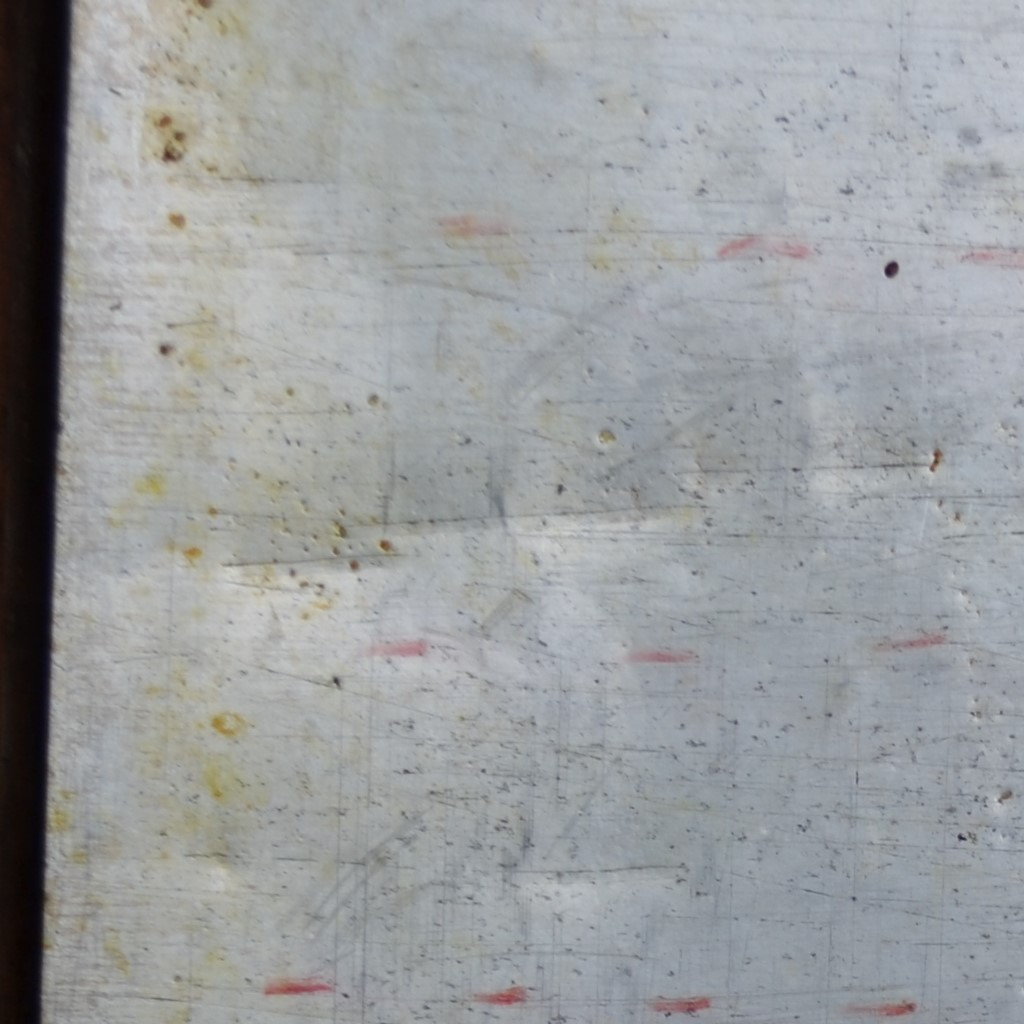varroa: (881, 256, 901, 280)
